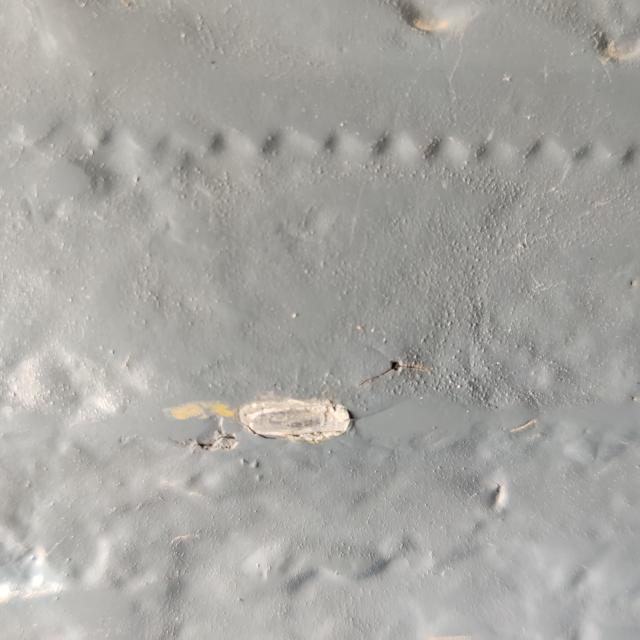crack: (349, 348, 436, 394)
paint-off: (152, 386, 360, 475)
